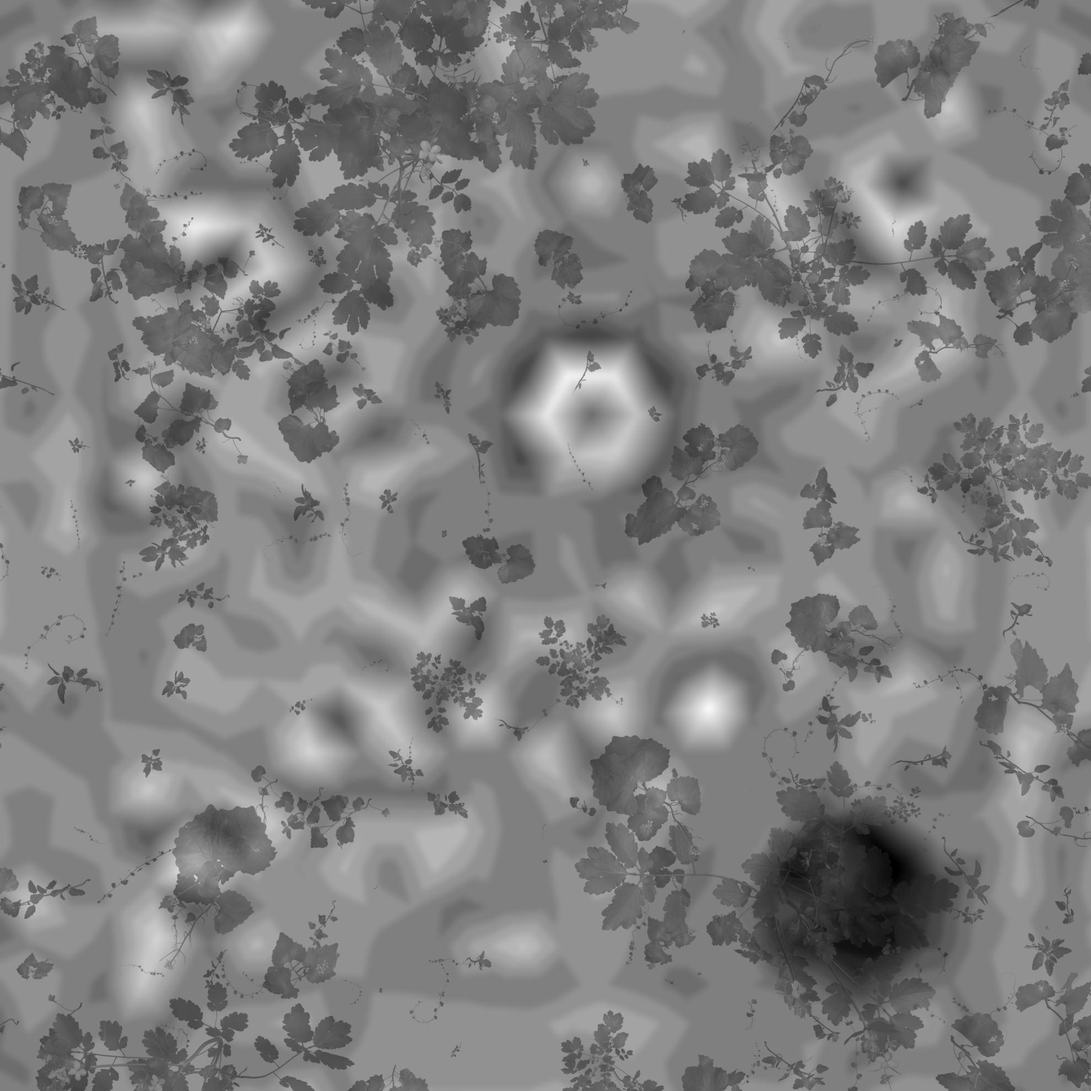landmine: (741, 814, 952, 998), (491, 325, 691, 512)
